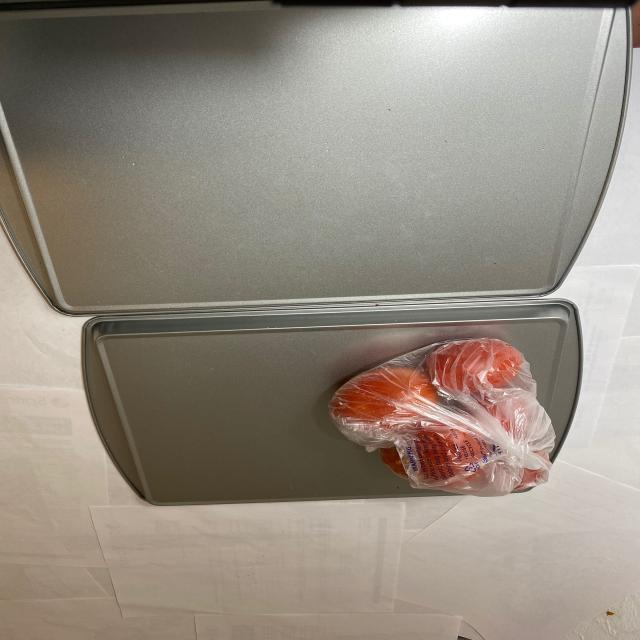tomato: (322, 338, 553, 494)
